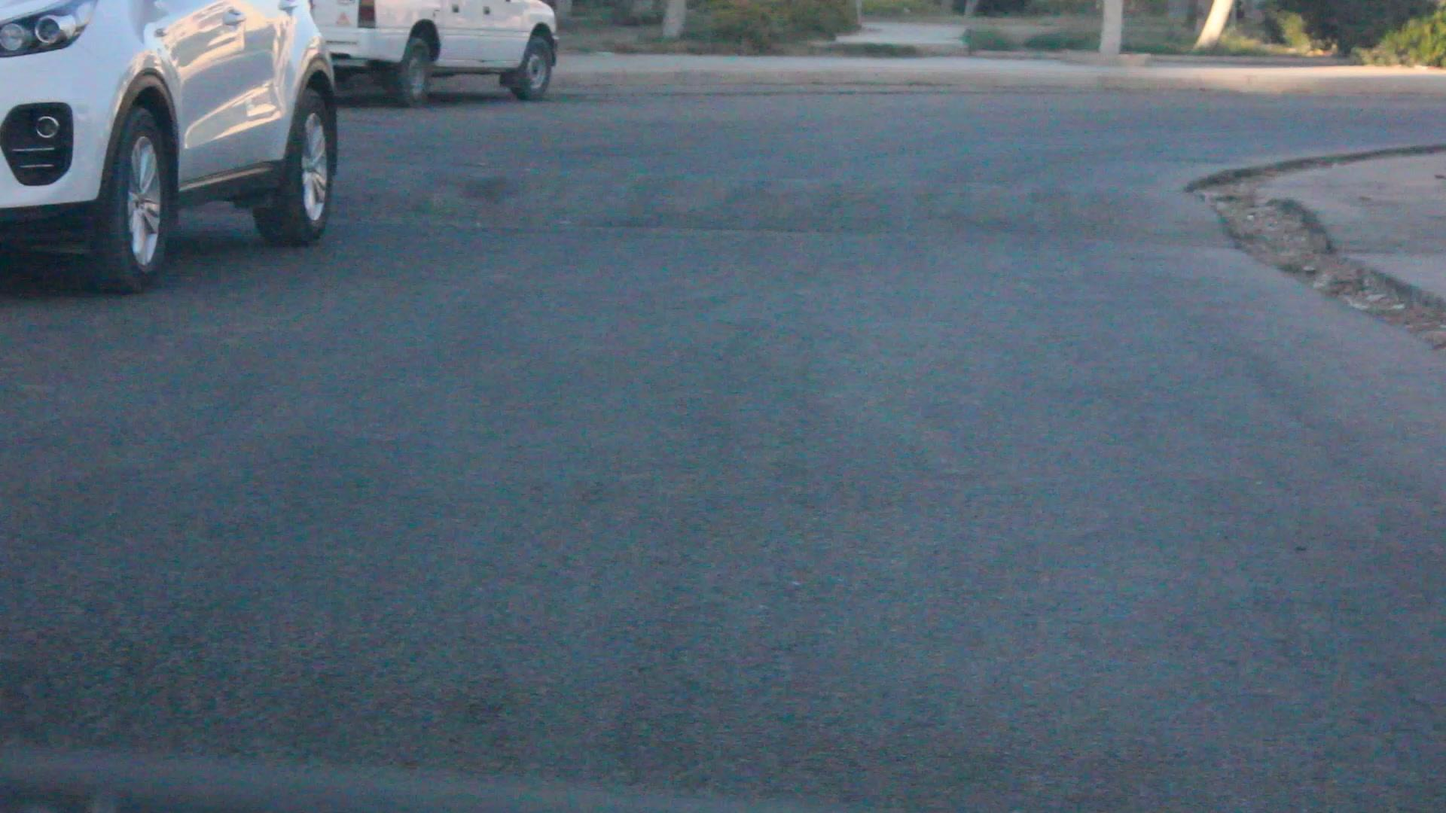Bump: (333, 139, 1243, 256)
